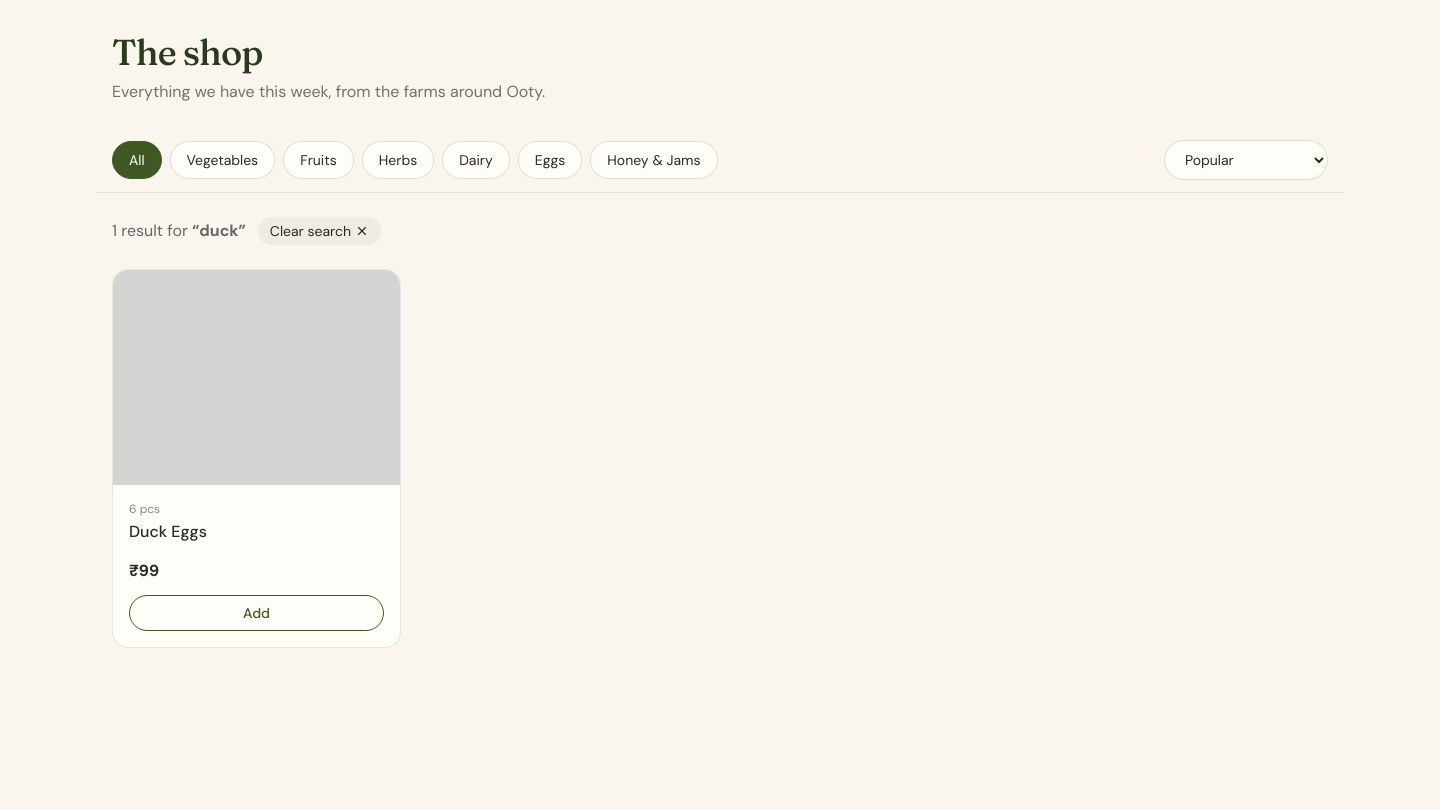
Test: ProductsPage › turns Add into a quantity stepper
The image size is (1440, 810).
Step 1. Click the button with aria-label "Add Duck Eggs to cart" → [256, 613], box [129,595,384,631]
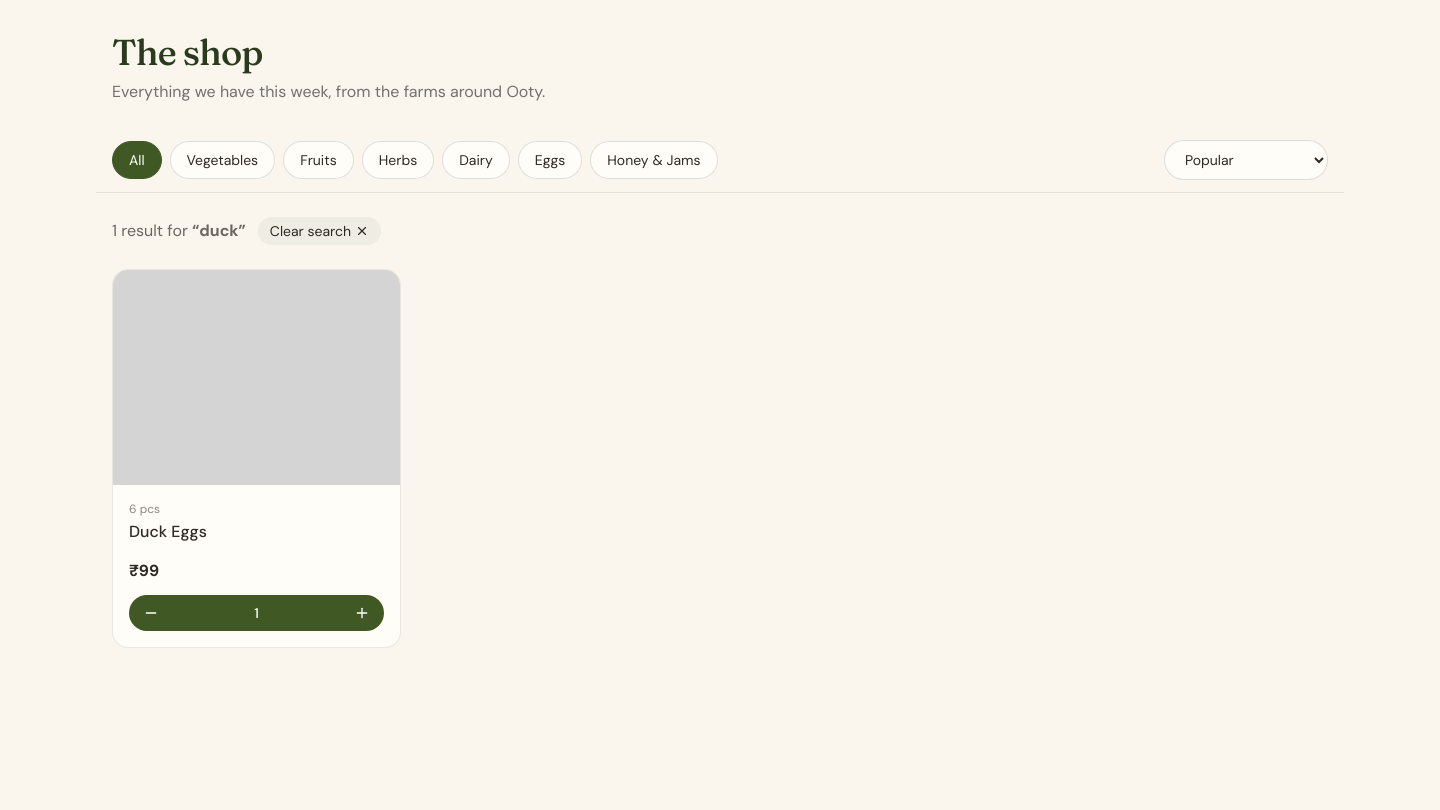
Step 2. Click the button named "Add one more Duck Eggs" → [362, 613], box [340,595,384,631]
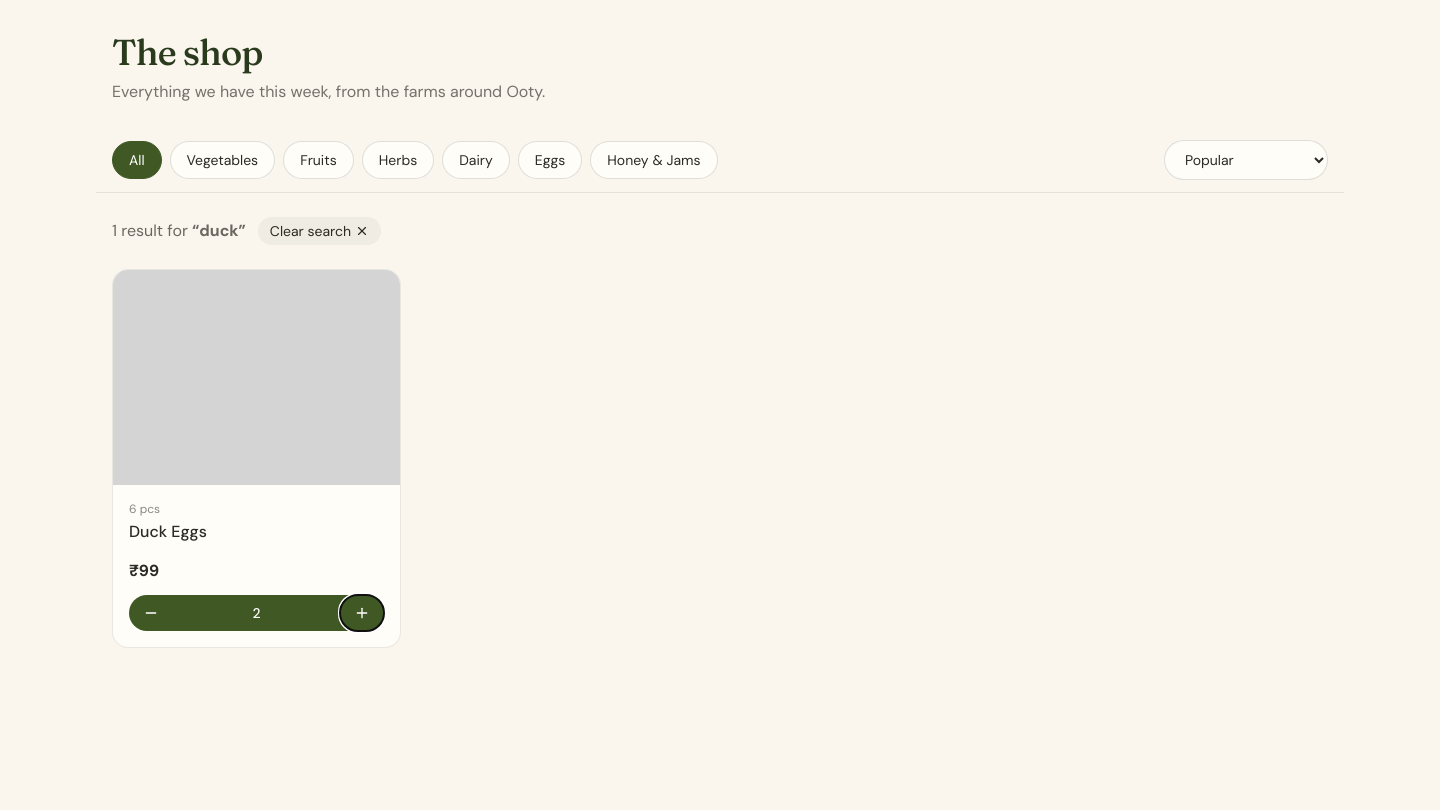
Expected: the text "2" is shown, [252,603,261,623]
